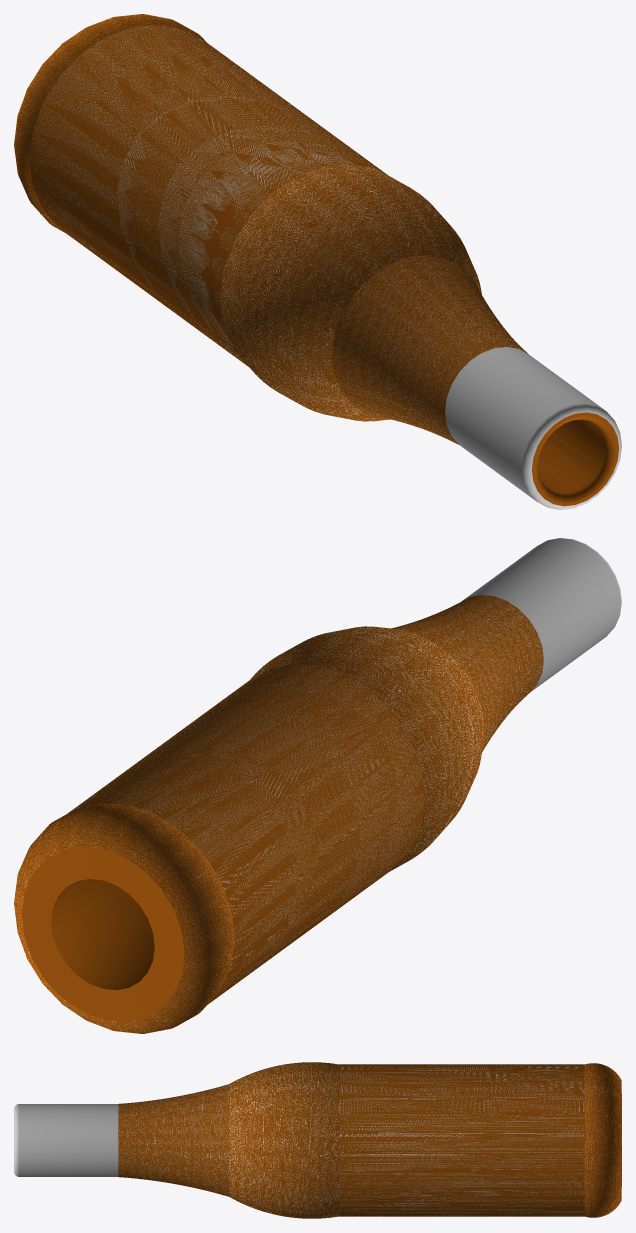
Rendered from model_scale.obj.
3 renders of one model, top to bottom at view 1: azimuth 30°, elevation 25°; view 2: azimuth 150°, elevation 25°; view 3: azimuth 270°, elevation 25°, orthographic. The views are drawn at different scales.
Parts seen in each view (by area): view 1: mesh2_mesh2-geometry; view 2: mesh2_mesh2-geometry; view 3: mesh2_mesh2-geometry.
Part boxes in pixels (left/top/right/bottom): mesh2_mesh2-geometry: left=14, top=14, right=621, bottom=509; mesh2_mesh2-geometry: left=14, top=538, right=621, bottom=1033; mesh2_mesh2-geometry: left=14, top=1062, right=621, bottom=1218.
Bounding box in the file's own units: 0.057 × 0.057 × 0.2204.
